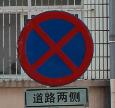No Parking: (16, 11, 95, 89)
